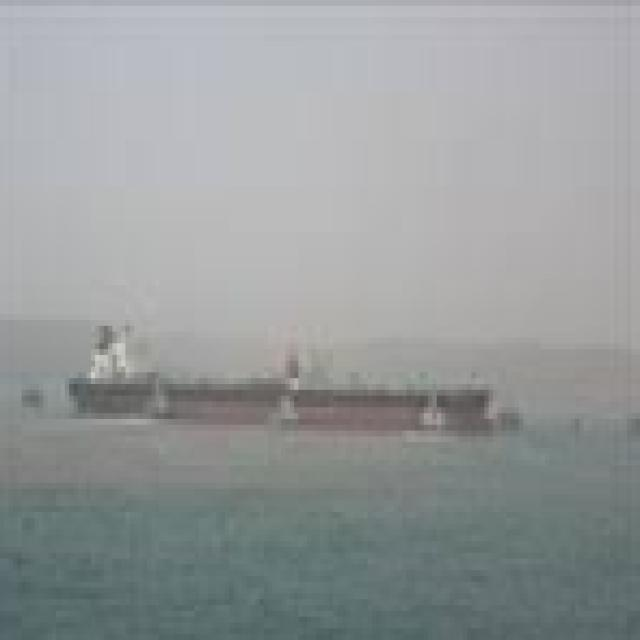cargoship: (68, 307, 494, 428)
